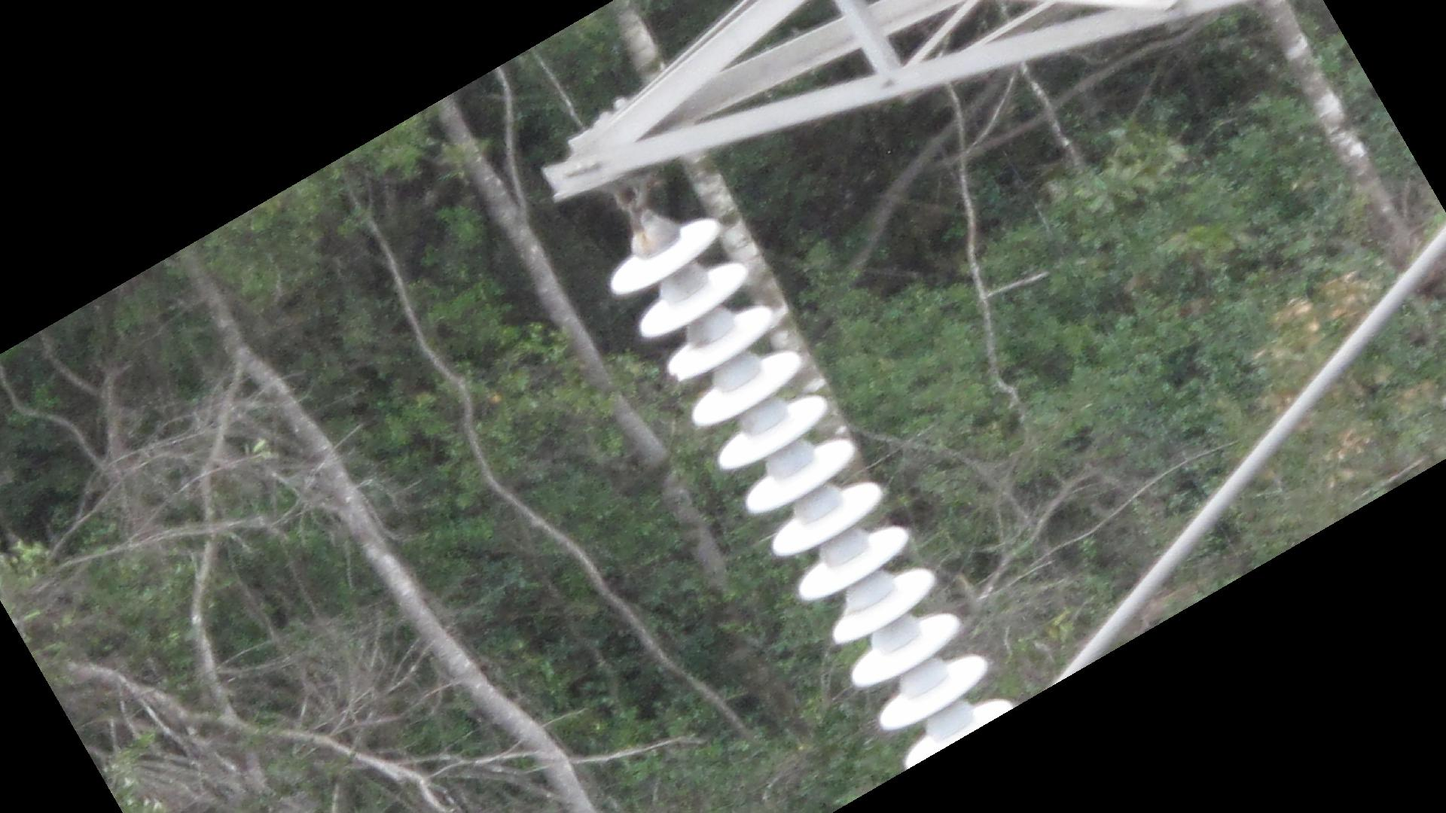insulator: (604, 212, 1020, 775)
insulator_breakage: (662, 357, 689, 386)
